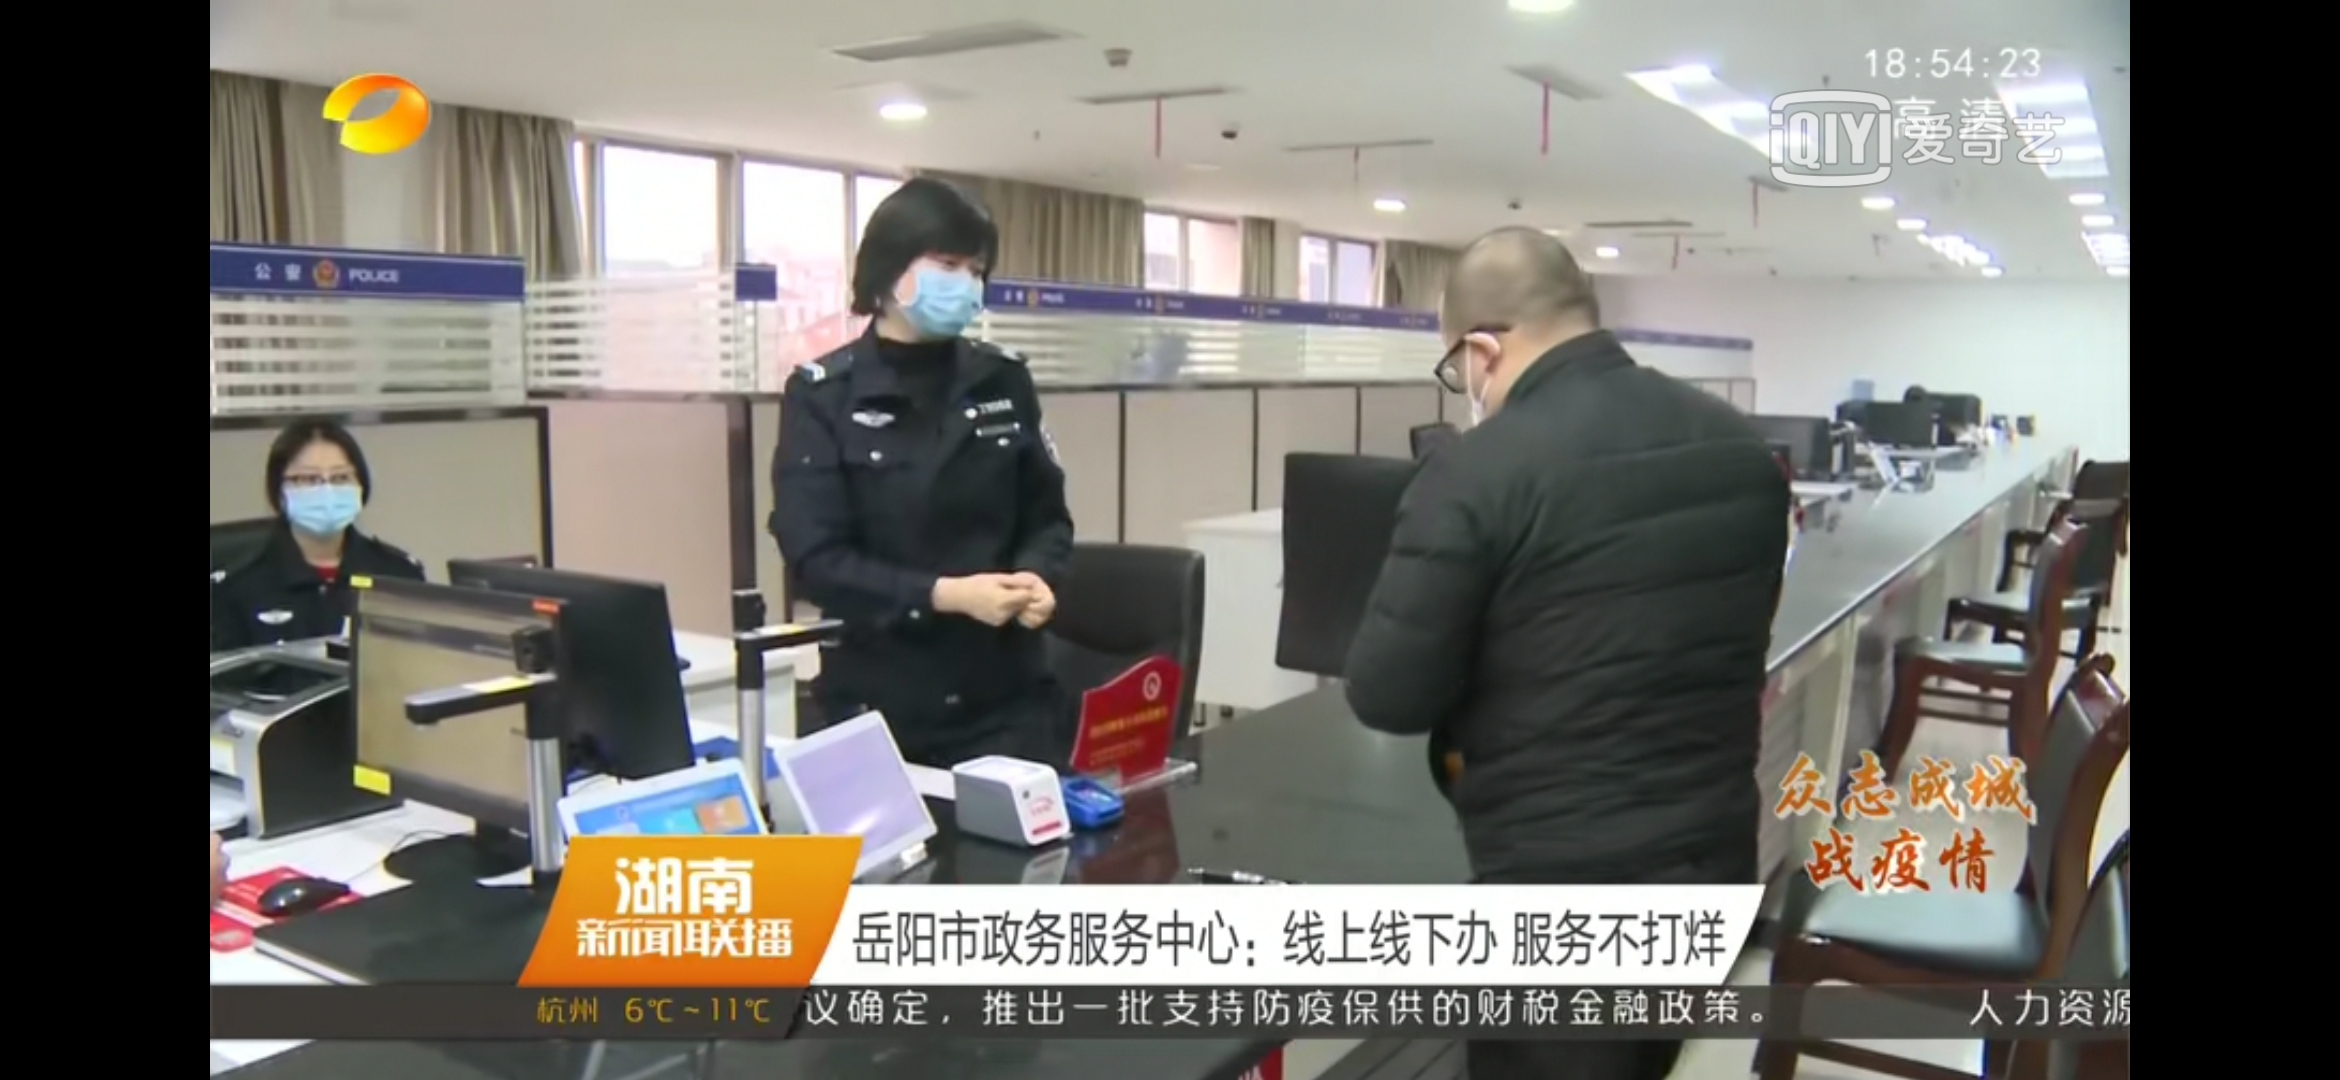correctlyWear: (883, 230, 992, 348), (1431, 301, 1518, 424), (266, 450, 369, 536)
